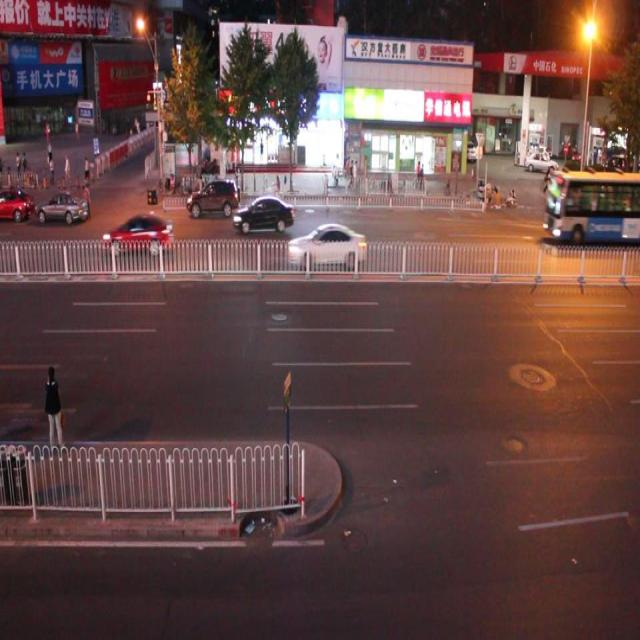car: (285, 219, 366, 270), (101, 212, 173, 256), (230, 192, 294, 235), (184, 176, 237, 219), (32, 188, 89, 226)
van: (542, 169, 640, 246)
